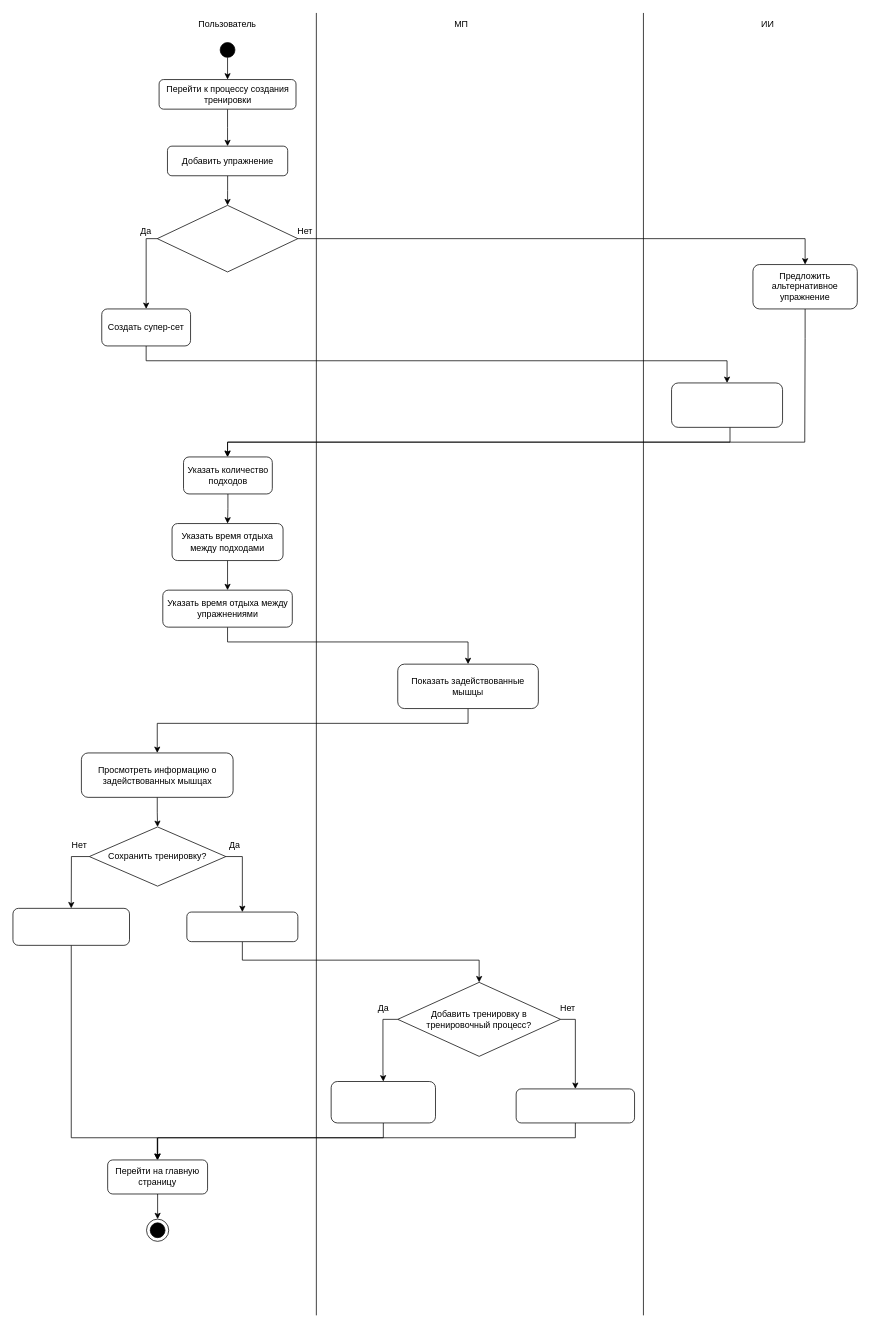
Image size: 870x1329. Some labels were removed from this diagram. Each missing label, with the centre of its shape:
Добавить тренировку в "Резерв": [575,1105]
Есть ли желание создать супер-сет?: [227,238]
Запросить желаемый вариант тренировки: [382,1102]
Отменить создание тренировки: [71,926]
Предложить упражнение антагонист: [727,404]
Сохранить тренировку: [242,926]
